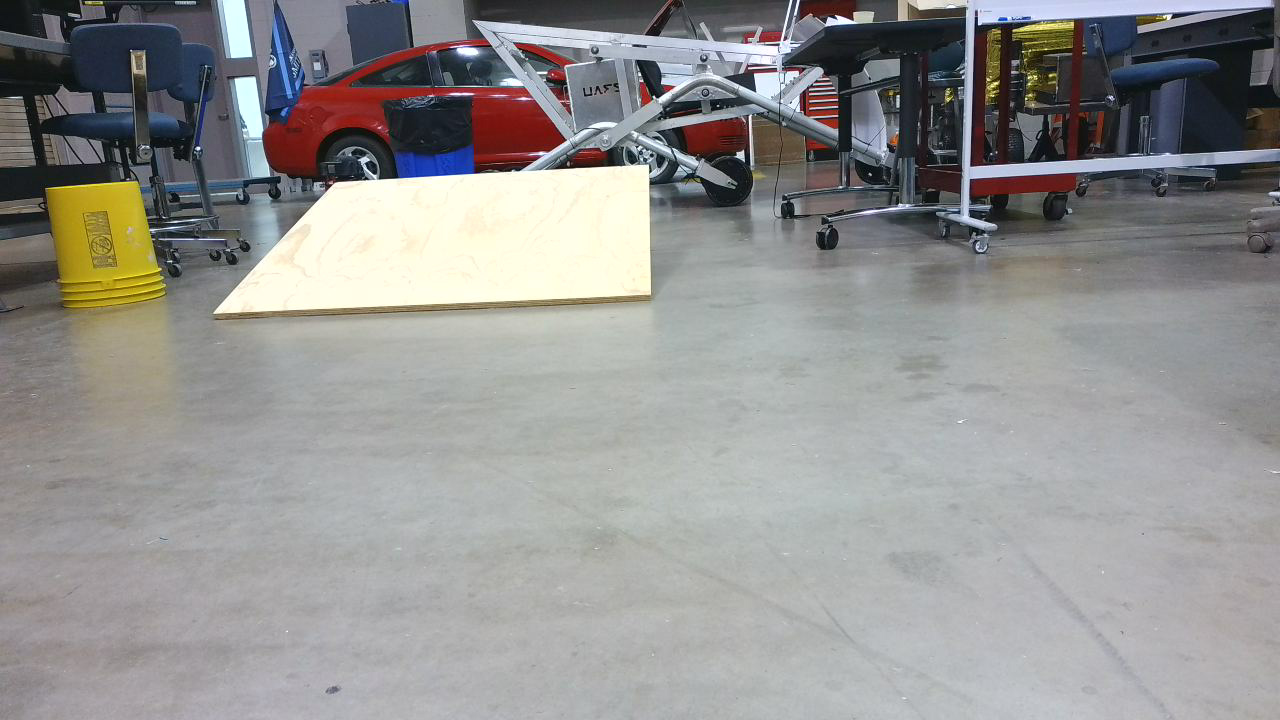concrete_block: (216, 167, 656, 324)
yellow_bucket: (43, 184, 173, 313)
